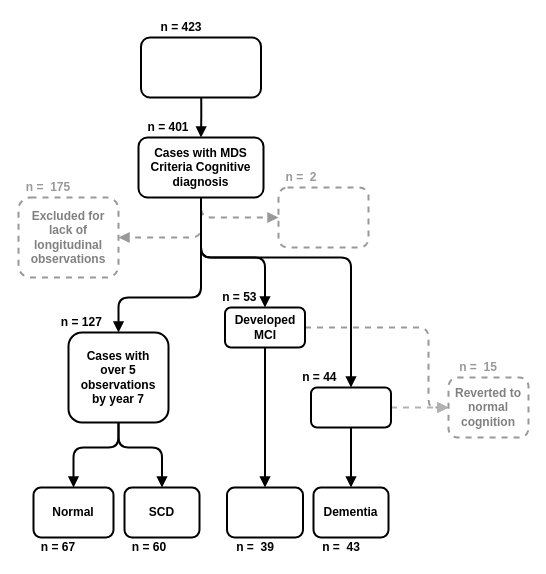
The diagram is 546 pixels wide and 574 high, and some of its shapes have lost their labels. Each missing label, with the centre of its shape:
"De-novo PD cases recruited at baseline" belongs at (x=201, y=67).
"Developed Dementia" belongs at (x=351, y=407).
"MCI" belongs at (x=265, y=512).
"MoCA < 20 at Baseline" belongs at (x=323, y=217).
